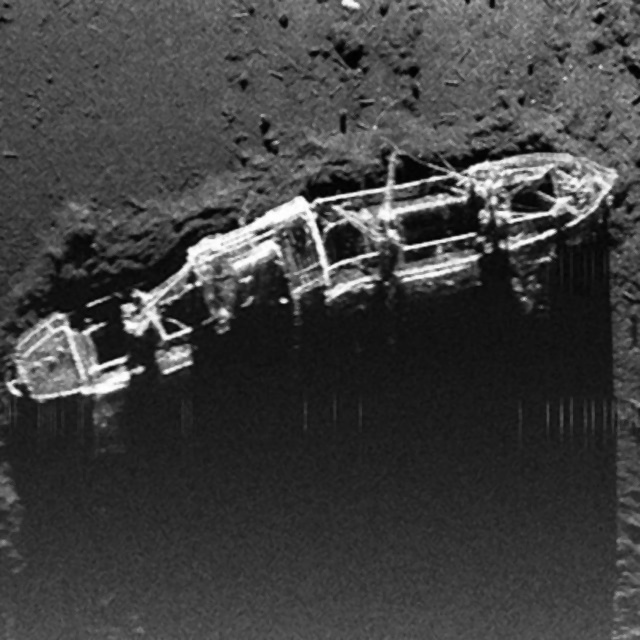Ship: (2, 128, 629, 431)
